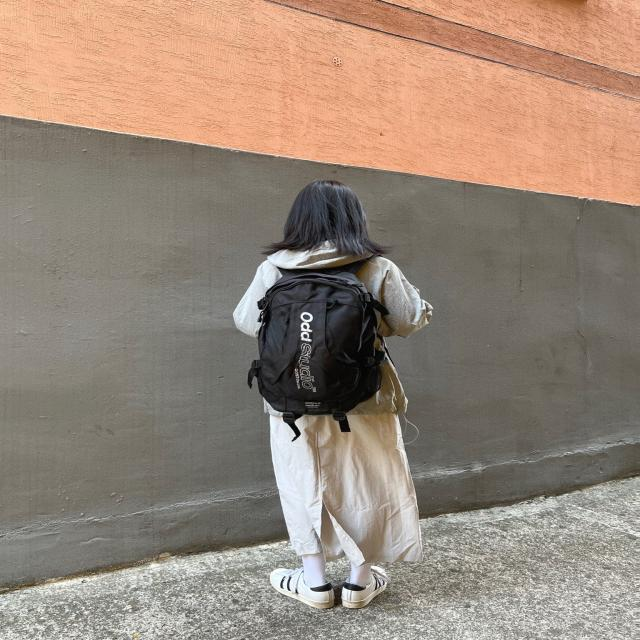backpack: (237, 263, 403, 425)
